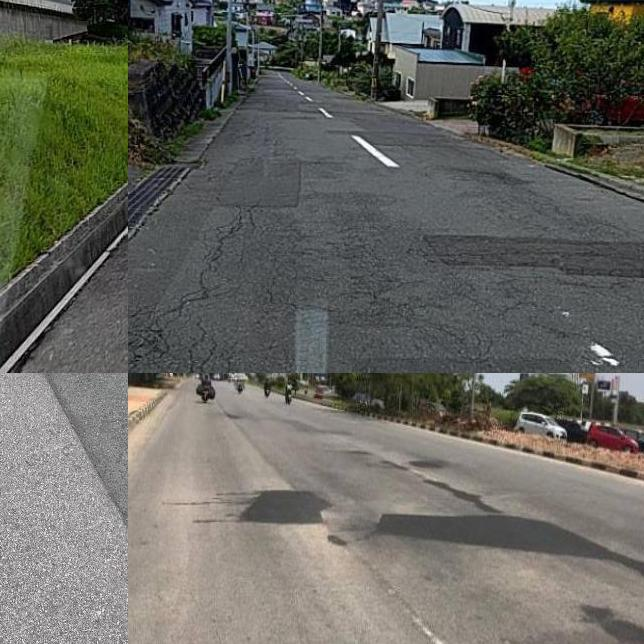Retak Buaya: (128, 310, 237, 373)
Sambungan: (373, 509, 644, 579), (419, 234, 644, 277), (219, 155, 300, 211), (237, 487, 327, 528)
